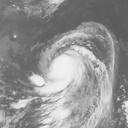cyclone: (33, 23, 115, 111)
